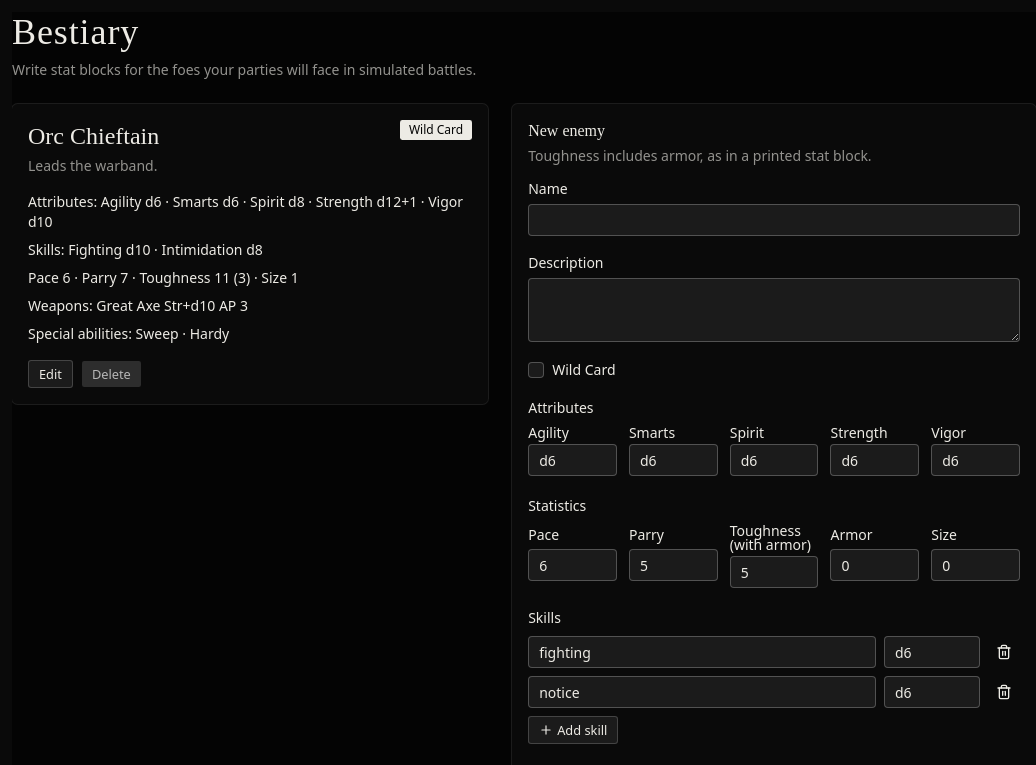
Scenario: BestiaryRoute › edits an existing enemy
Later steps or results of the test are not shown.
Click the button with aria-label "Edit Orc Chieftain": [50, 374] box top-left (28, 360), bottom-right (73, 388)
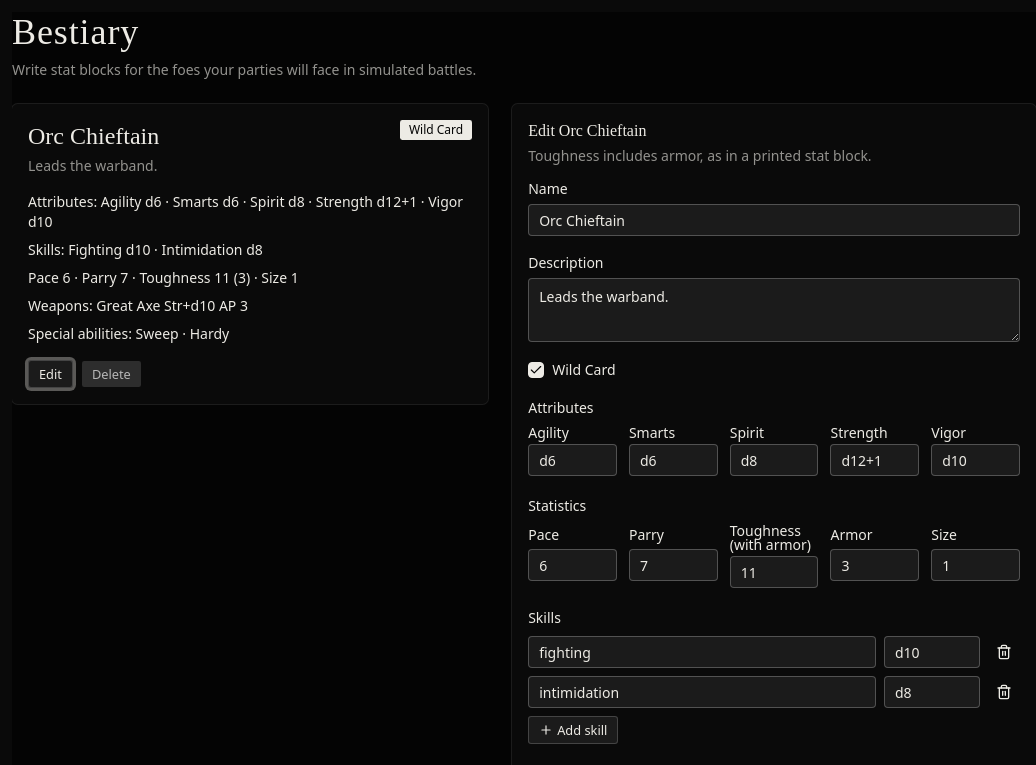
Expected: the text "Edit Orc Chieftain" is shown, top-left (528, 122), bottom-right (646, 139)
Expected: the field labelled "Name" holds "Orc Chieftain", top-left (528, 204), bottom-right (1020, 236)
